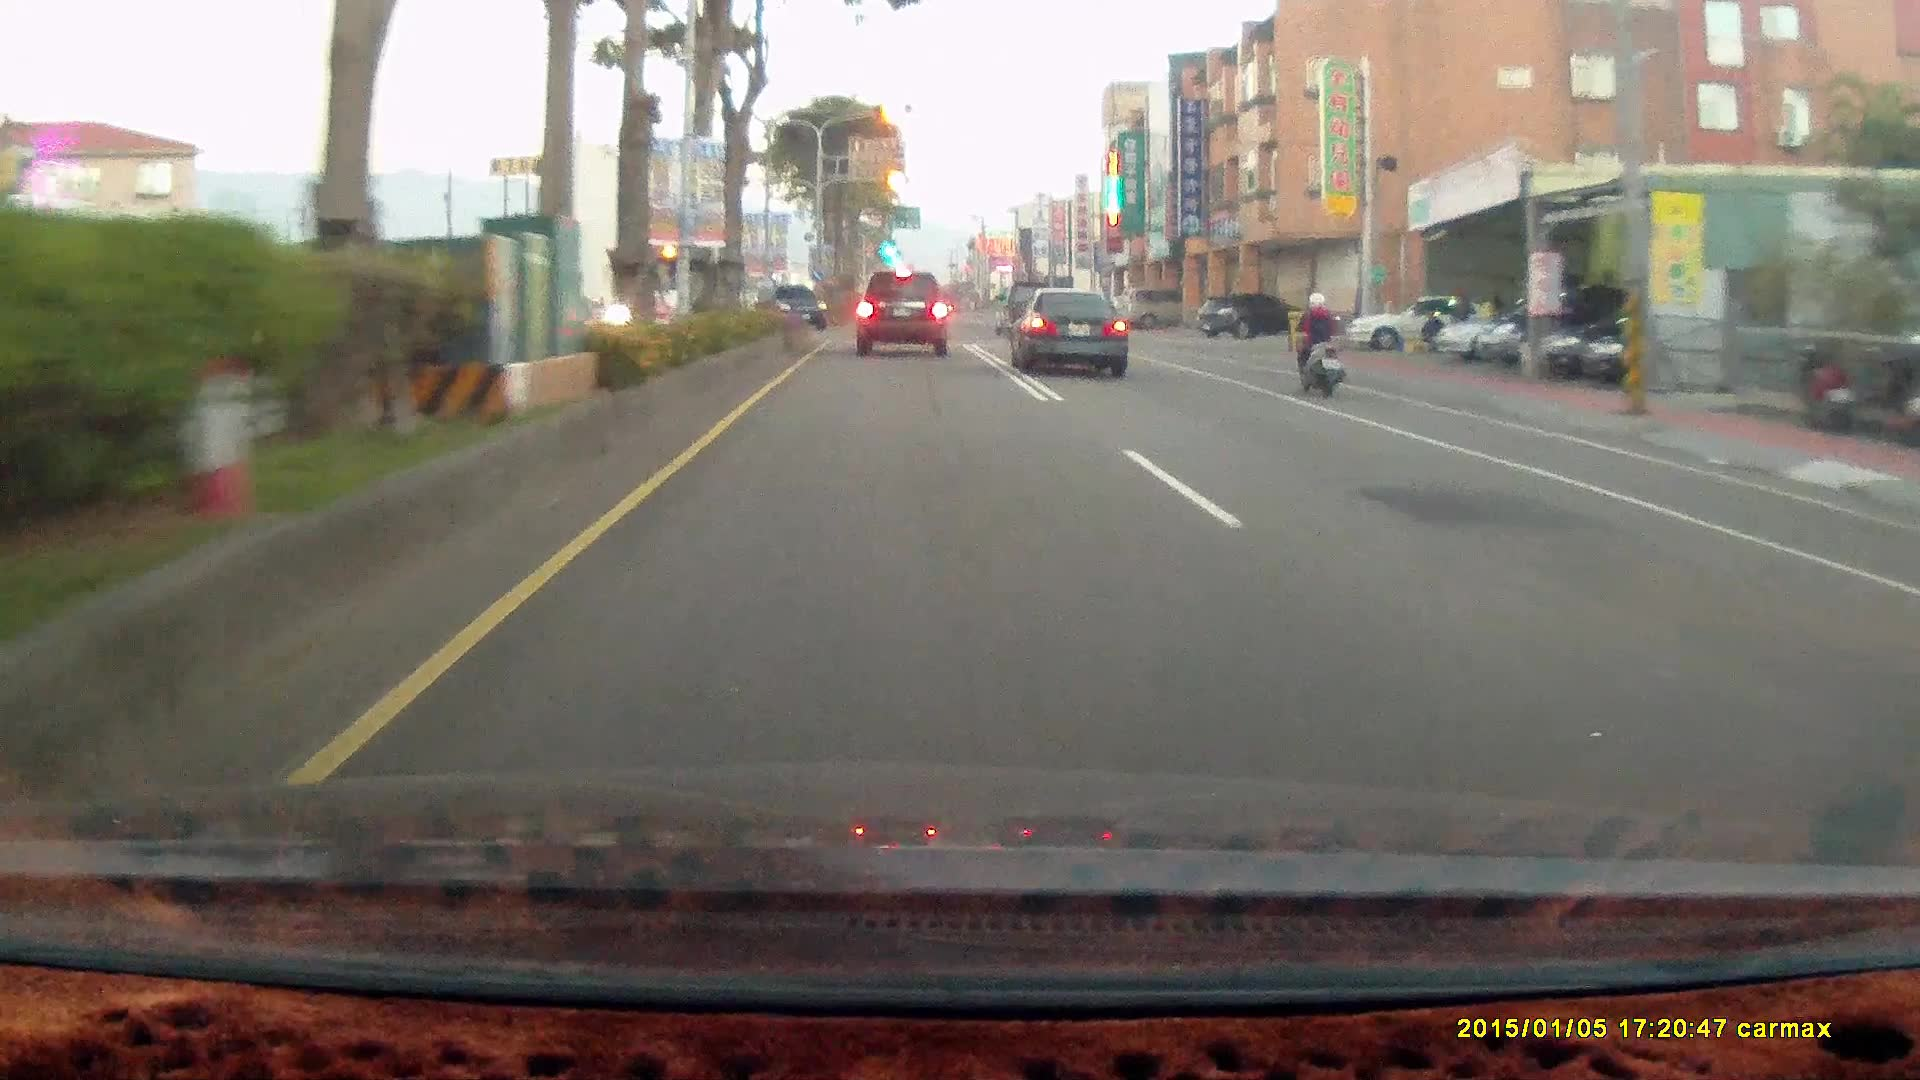pedestrian: (1453, 285, 1474, 342), (1419, 306, 1445, 348)
rider: (1281, 282, 1359, 407), (1288, 289, 1346, 397)
vehicle: (1579, 302, 1756, 386), (1533, 300, 1713, 378), (1473, 285, 1634, 363), (1340, 287, 1509, 356), (1020, 289, 1134, 385), (1006, 286, 1128, 376), (1435, 298, 1583, 361), (857, 269, 953, 359), (854, 268, 947, 353), (1346, 293, 1481, 350), (1201, 294, 1302, 346), (1193, 291, 1302, 338), (756, 282, 832, 334), (1117, 285, 1202, 329), (991, 281, 1056, 336), (759, 285, 829, 331)
